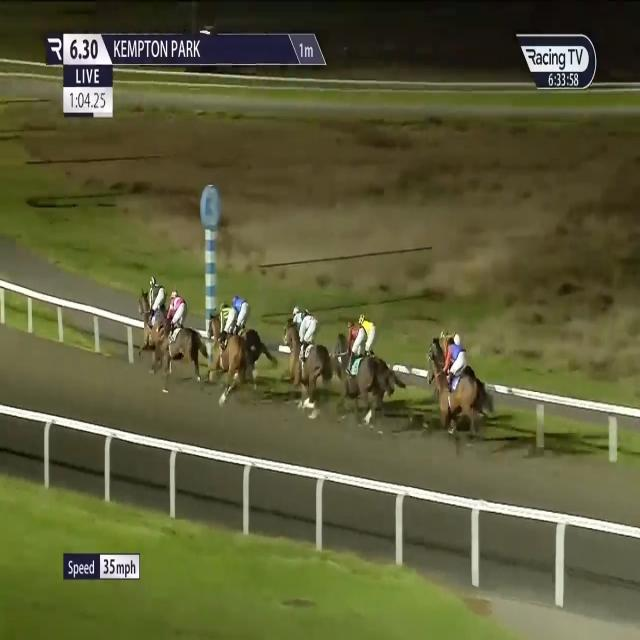horses-racing: (329, 317, 381, 423), (435, 332, 483, 446), (222, 293, 274, 386), (155, 286, 202, 382), (206, 296, 252, 393), (292, 305, 326, 421), (136, 269, 172, 357), (359, 305, 387, 397), (277, 300, 308, 372), (424, 320, 450, 380)
